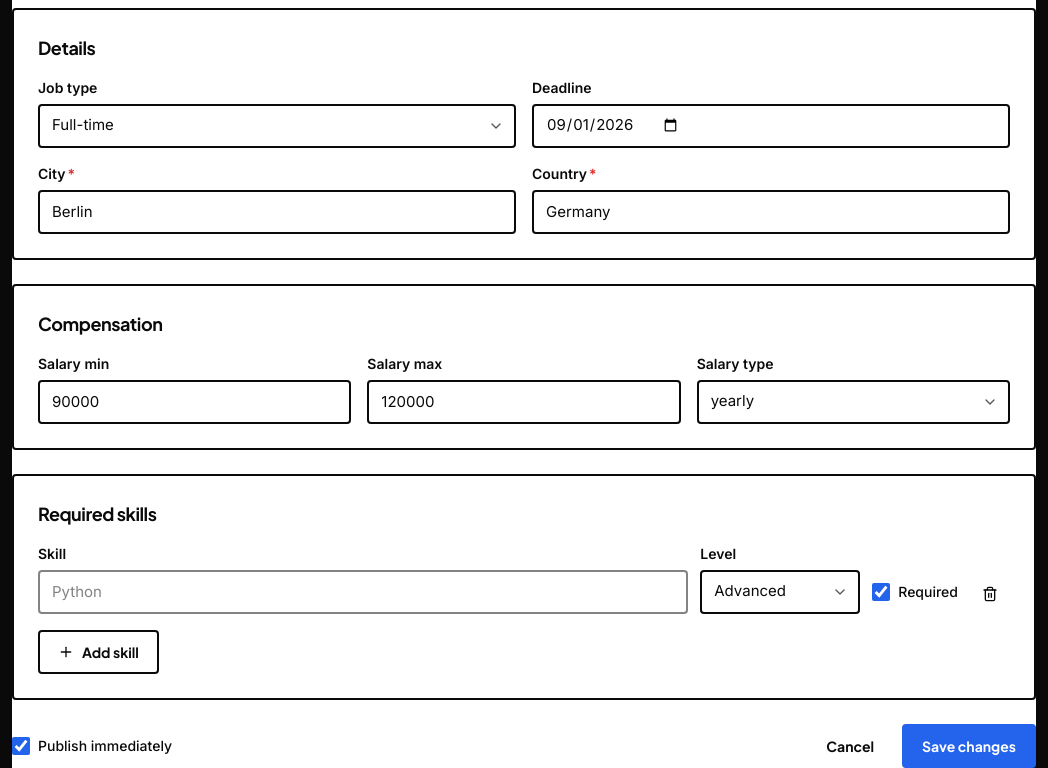
Test case: PostJob › edit: loads the job, prefills the form, and disables persisted skill-row names while new rows stay editable
(page scrolled)
expect the field showing "Berlin" is shown: met, box [38,190,516,234]
expect the field showing "Germany" is shown: met, box [532,190,1010,234]
What coordinates should you click on to do the following:
click the button "Add skill"
I would click on:
 (98, 652)
Its box is [38,630,159,674].
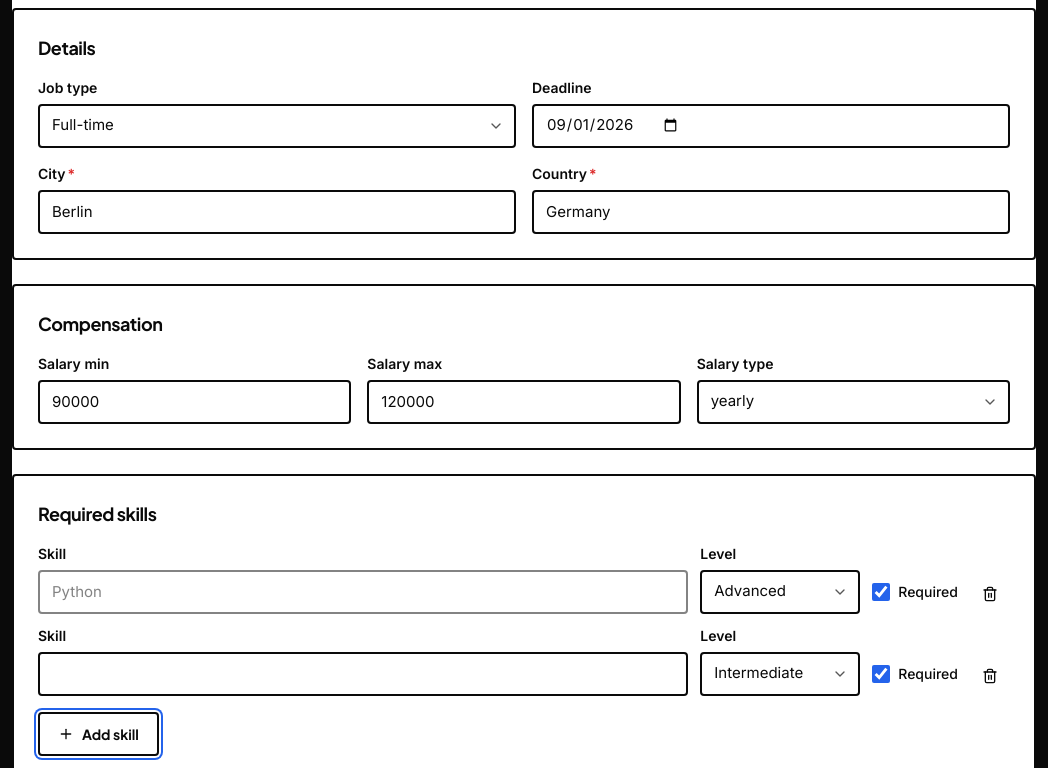
expect the 1st field labelled "Skill" is disabled: met, box [38,570,688,614]
expect the 2nd field labelled "Skill" is enabled: met, box [38,652,688,696]
